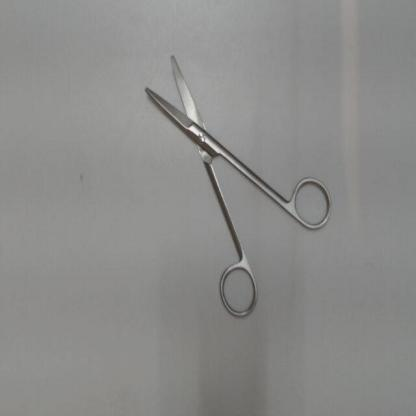Curved Mayo Scissors: (135, 41, 335, 324)
